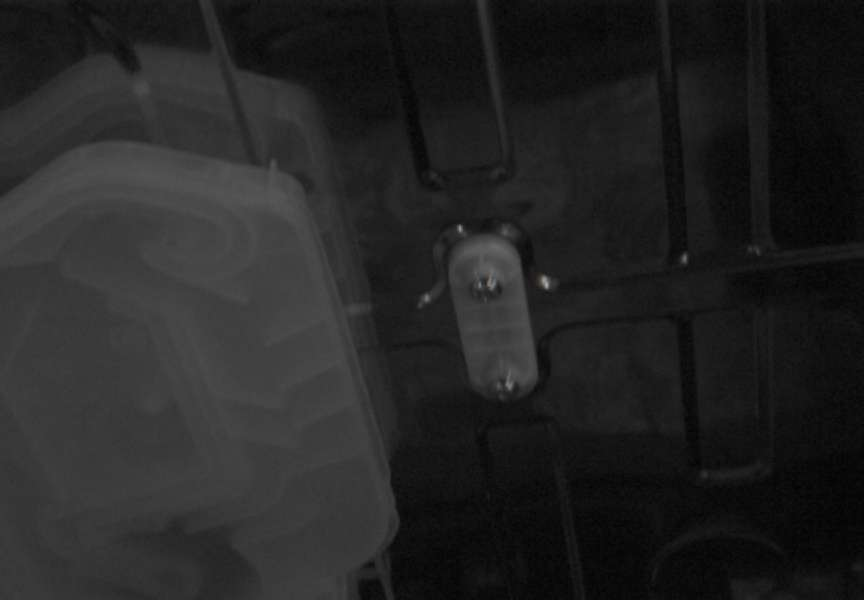screw: (469, 274, 503, 302), (490, 373, 520, 402)
